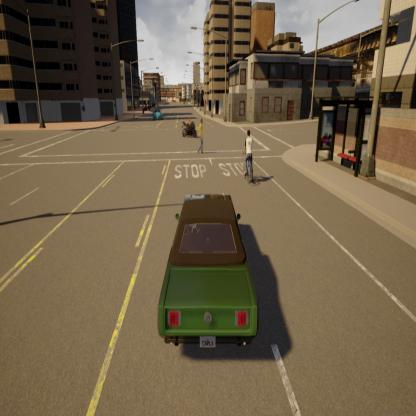Cars: (146, 177, 282, 390), (150, 100, 170, 136)
Pedestrian: (198, 112, 206, 164)
